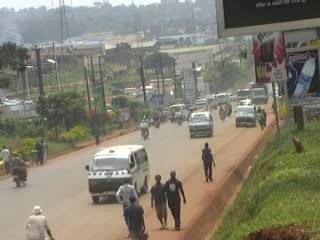Car: (185, 103, 199, 112)
Motorcycle: (7, 150, 31, 189), (138, 118, 150, 140), (151, 109, 162, 128), (217, 103, 227, 122), (175, 108, 184, 125), (225, 100, 231, 117)
